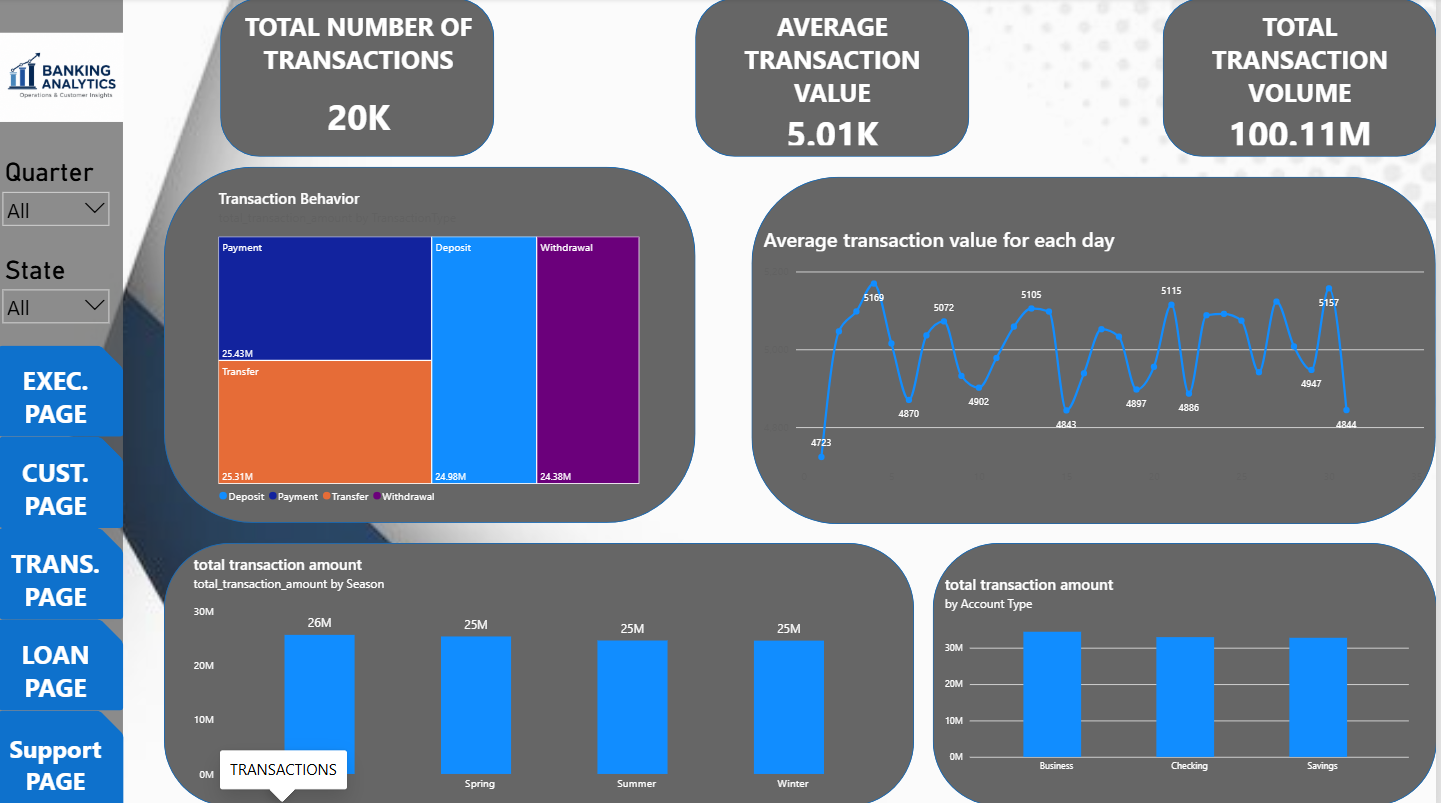

What the dashboard file says about the page in this screenshot:
{"tool":"powerbi","page":{"name":"TRANSACTIONS","canvas":[1920,1080],"ordinal":2},"visuals":[{"type":"shape","box":[296,0,366,212],"z":0},{"type":"shape","box":[1006,238,914,464],"z":1000},{"type":"shape","box":[220,728,1002,352],"z":2000},{"type":"shape","box":[220,225.7,710,475.7],"z":3000},{"type":"shape","box":[930,0,366,212],"z":4000},{"type":"card","title":"TOTAL NUMBER OF TRANSACTIONS","fields":{"Values":["Key_Measures.Total Number of Transactions"]},"box":[298,0,366.2,212.5],"z":5000},{"type":"shape","box":[1554,0,366,212],"z":6000},{"type":"shape","box":[0,0,165.7,1080],"z":7000},{"type":"slicer","fields":{"Values":["Accounts_Sheet.CreatedDate.Variation.Date Hierarchy.Quarter"]},"box":[0,212,152,184],"z":8000},{"type":"slicer","fields":{"Values":["customers_cleaned.State"]},"box":[0,342,152,184],"z":9000},{"type":"card","title":"AVERAGE TRANSACTION VALUE","fields":{"Values":["Key_Measures.Average Transaction Value"]},"box":[930,0,366.2,212.5],"z":10000},{"type":"lineChart","title":"Average transaction value for each day","fields":{"Category":["DATE.DAY"],"Y":["Key_Measures.Average Transaction Value"]},"box":[1005.7,288.6,914.3,380],"z":11000},{"type":"clusteredColumnChart","title":"total transaction amount","fields":{"Category":["Banking_Analytics_Trans.Season"],"Y":["Key_Measures.total_transaction_amount"]},"box":[243.8,727.5,968.8,352.5],"z":12000},{"type":"image","box":[0,0,166,212],"z":13000},{"type":"treemap","title":"Transaction Behavior","fields":{"Details":["Banking_Analytics_Trans.TransactionType"],"Values":["Key_Measures.total_transaction_amount"]},"box":[278,238,594,456],"z":14000},{"type":"shape","box":[1246.7,728.3,673.3,351.7],"z":15000},{"type":"clusteredColumnChart","title":"total transaction amount","fields":{"Category":["Accounts_Sheet.AccountType","Banking_Analytics_Trans.TransactionType"],"Y":["Key_Measures.total_transaction_amount"]},"box":[1246.7,754.4,652.2,300],"z":16000},{"type":"card","title":"TOTAL TRANSACTION VOLUME","fields":{"Values":["Key_Measures.total_transaction_amount"]},"box":[1554,0,366.2,212.5],"z":17000},{"type":"actionButton","box":[0,464,166,122],"z":18000},{"type":"actionButton","box":[0,586,166,122],"z":19000},{"type":"actionButton","box":[0,708,166,122],"z":20000},{"type":"actionButton","box":[0,830,166,122],"z":21000},{"type":"actionButton","box":[0,951.7,166.7,128.3],"z":22000}]}

Visuals, with their boxes on the page's 1920x1080 design canvas (x1, y1, x2, y2). These are canvas units, not pixel positions in the 1441x803 screenshot, which may show the page scaled, cropped or inside an application window:
shape: rect(296, 0, 662, 212)
shape: rect(1006, 238, 1920, 702)
shape: rect(220, 728, 1222, 1080)
shape: rect(220, 226, 930, 701)
shape: rect(930, 0, 1296, 212)
"TOTAL NUMBER OF TRANSACTIONS" card: rect(298, 0, 664, 212)
shape: rect(1554, 0, 1920, 212)
shape: rect(0, 0, 166, 1080)
slicer - Accounts_Sheet.CreatedDate.Variation.Date Hierarchy.Quarter: rect(0, 212, 152, 396)
slicer - customers_cleaned.State: rect(0, 342, 152, 526)
"AVERAGE TRANSACTION VALUE" card: rect(930, 0, 1296, 212)
"Average transaction value for each day" lineChart: rect(1006, 289, 1920, 669)
"total transaction amount" clusteredColumnChart: rect(244, 728, 1213, 1080)
image: rect(0, 0, 166, 212)
"Transaction Behavior" treemap: rect(278, 238, 872, 694)
shape: rect(1247, 728, 1920, 1080)
"total transaction amount" clusteredColumnChart: rect(1247, 754, 1899, 1054)
"TOTAL TRANSACTION VOLUME" card: rect(1554, 0, 1920, 212)
actionButton: rect(0, 464, 166, 586)
actionButton: rect(0, 586, 166, 708)
actionButton: rect(0, 708, 166, 830)
actionButton: rect(0, 830, 166, 952)
actionButton: rect(0, 952, 167, 1080)
